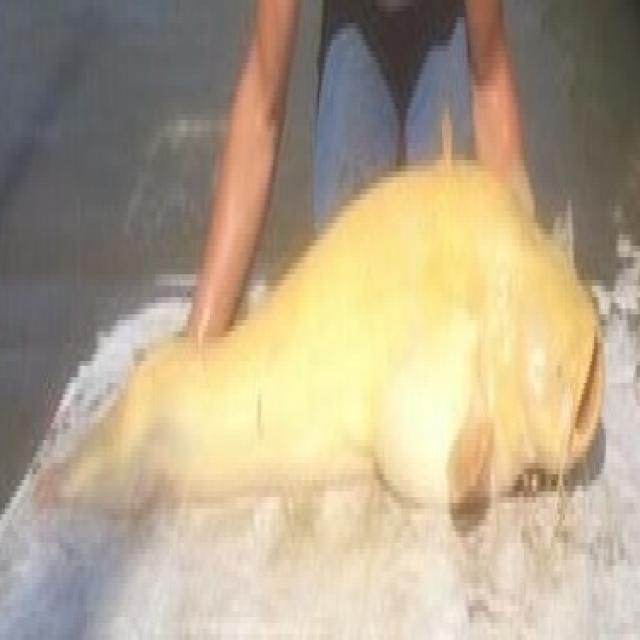Catfish: (60, 134, 616, 582)
